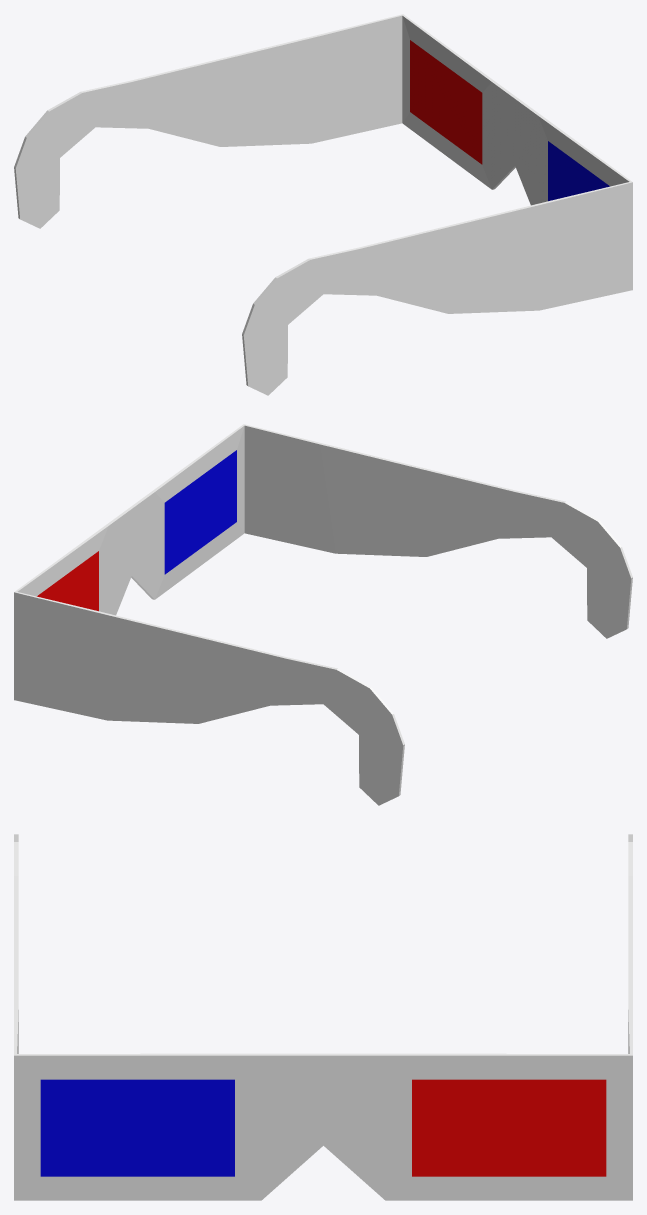
The model's file is 3D_glasses.glb.
3 views of the same model, one above another, from view 1: azimuth 30°, elevation 25°; view 2: azimuth 150°, elevation 25°; view 3: azimuth 270°, elevation 25° (orthographic). The views are drawn at different scales.
Visible parts, largest first — view 1: Plane; view 2: Plane; view 3: Plane.
Part boxes in pixels (x1=…): Plane: x1=14, y1=14, x2=632, y2=395; Plane: x1=14, y1=424, x2=632, y2=805; Plane: x1=14, y1=834, x2=632, y2=1200.
Size of the model in its own units: 3.91 by 1.21 by 3.99.
1 material, 1 textured.
